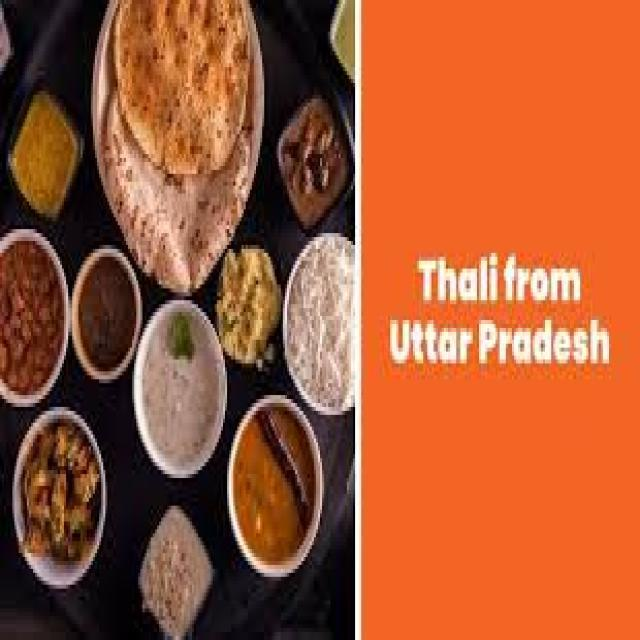papad: (100, 1, 260, 261)
rice: (282, 236, 355, 408), (220, 243, 286, 365)
roti: (105, 0, 258, 276)
sambar-rasam: (227, 403, 321, 561), (70, 255, 143, 382)
sweet: (138, 305, 223, 469), (230, 409, 318, 553), (10, 88, 82, 223), (4, 245, 67, 395), (71, 254, 143, 377)
